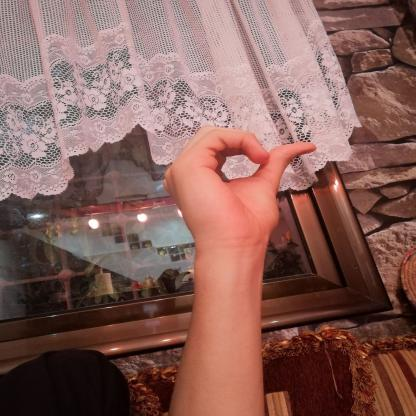WAW: (147, 117, 331, 262)
